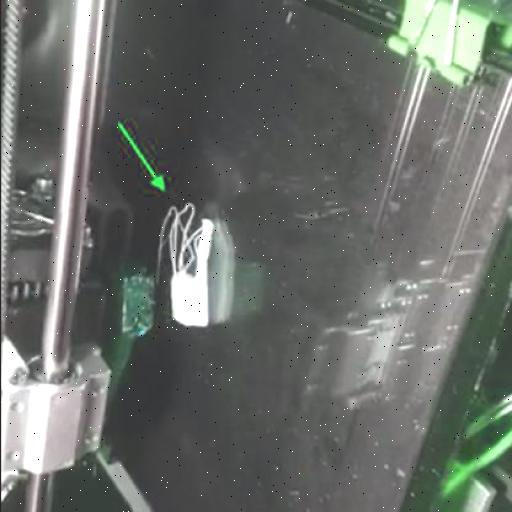spaghetti: (154, 203, 200, 279)
